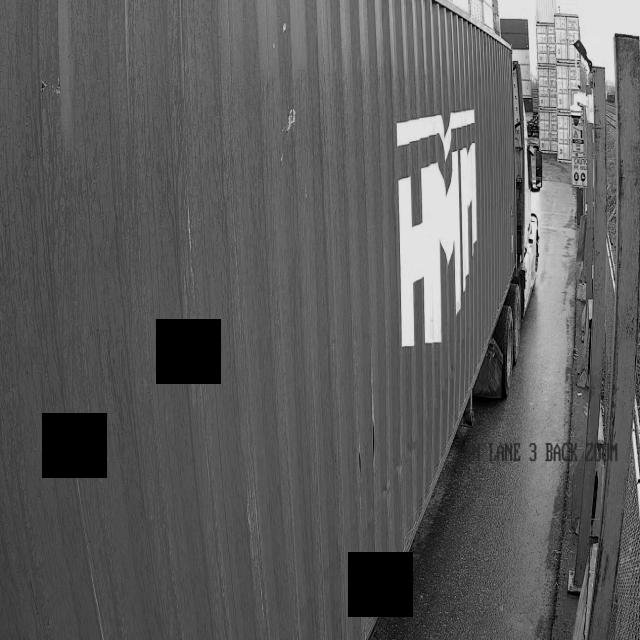container_company_logo: (362, 83, 527, 365)
truck_with_container: (0, 0, 530, 640)
